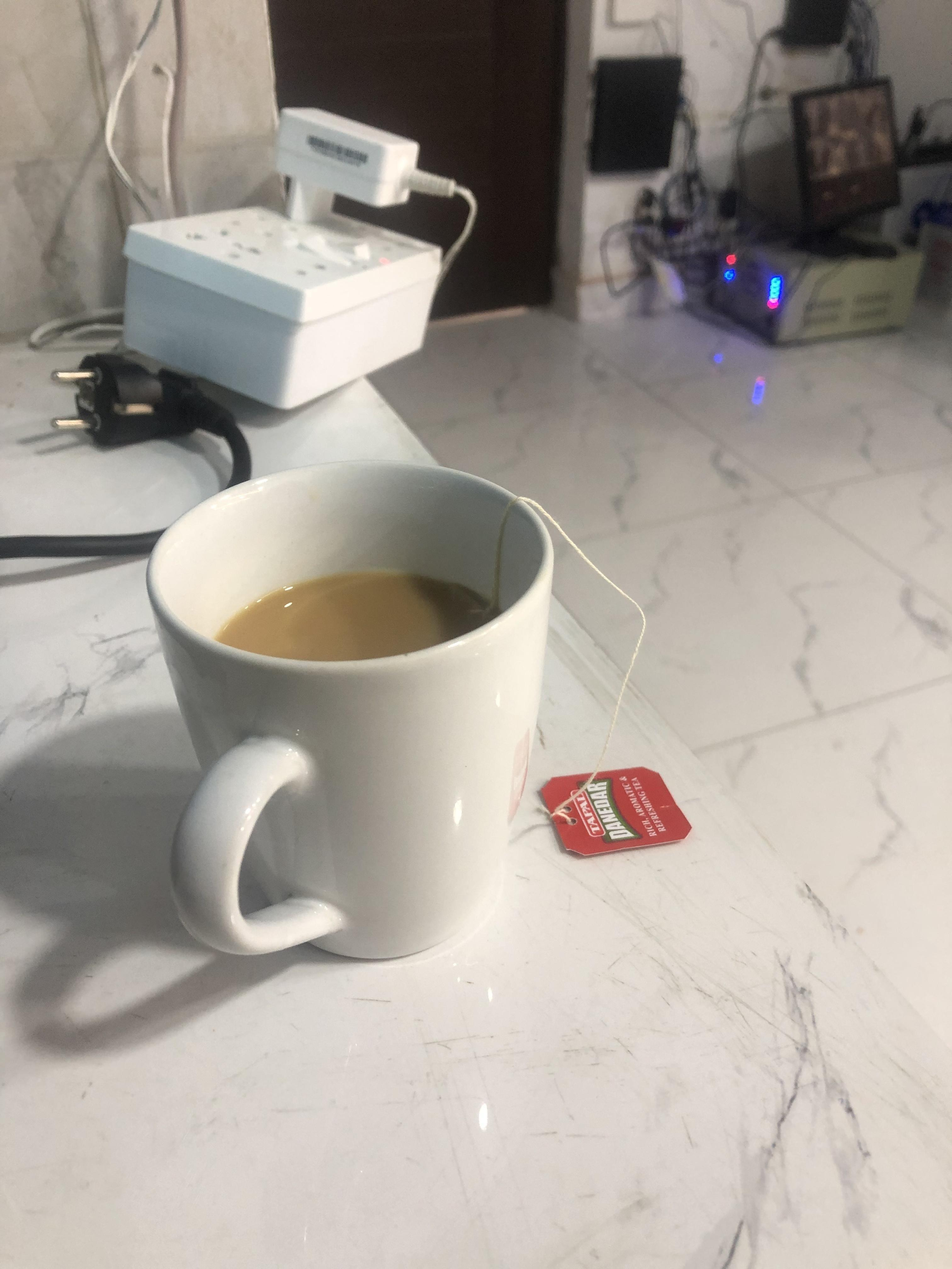cup-handle: (140, 455, 561, 969)
